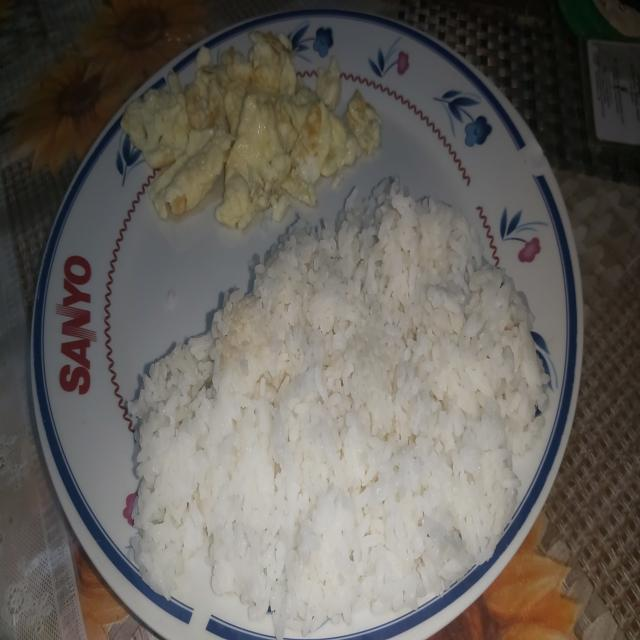Chicken -Chicken Inasal-: (161, 236, 512, 634)
